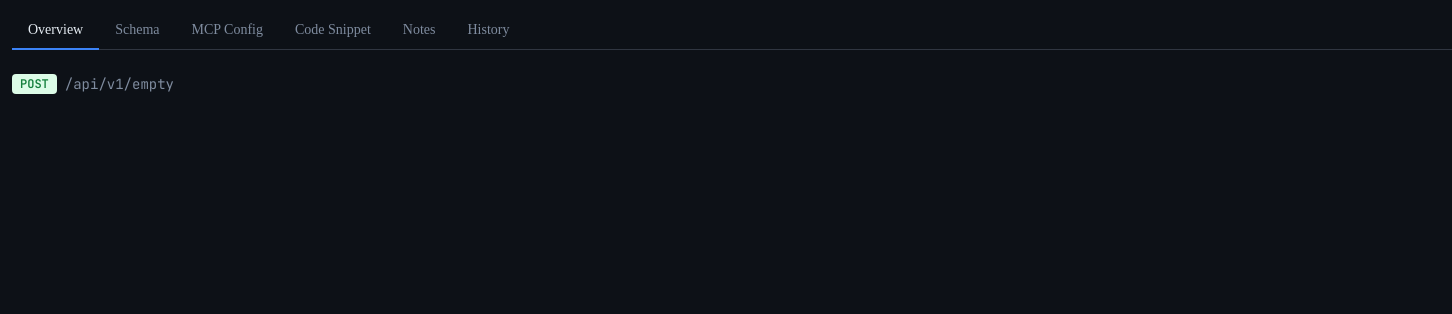
Test case: ApiDetailTabs — empty tab states › shows EmptyState on Schema tab when both schemas are null
Click the tab "Schema" at (137, 31), box [99,12,176,50]
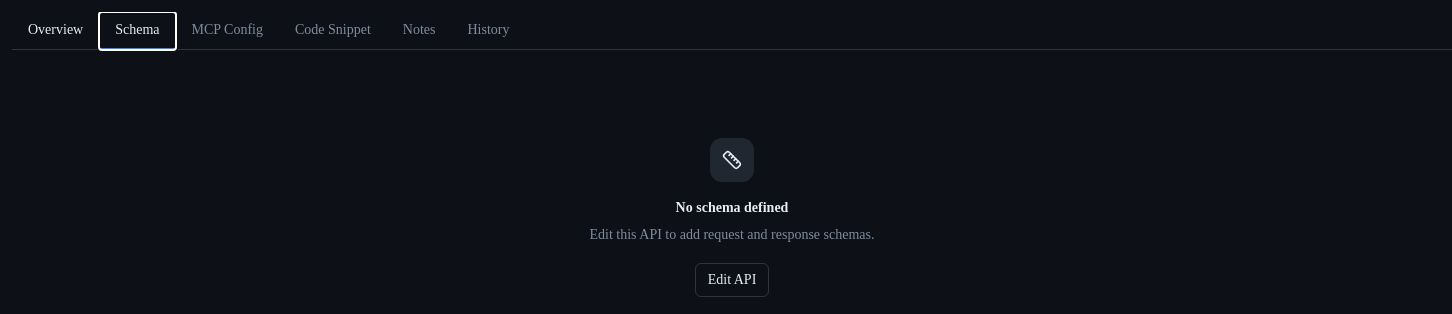
Expected: the heading "No schema defined" is shown, [676,198,788,218]
Expected: the button "Edit API" is shown, [695,263,769,297]
